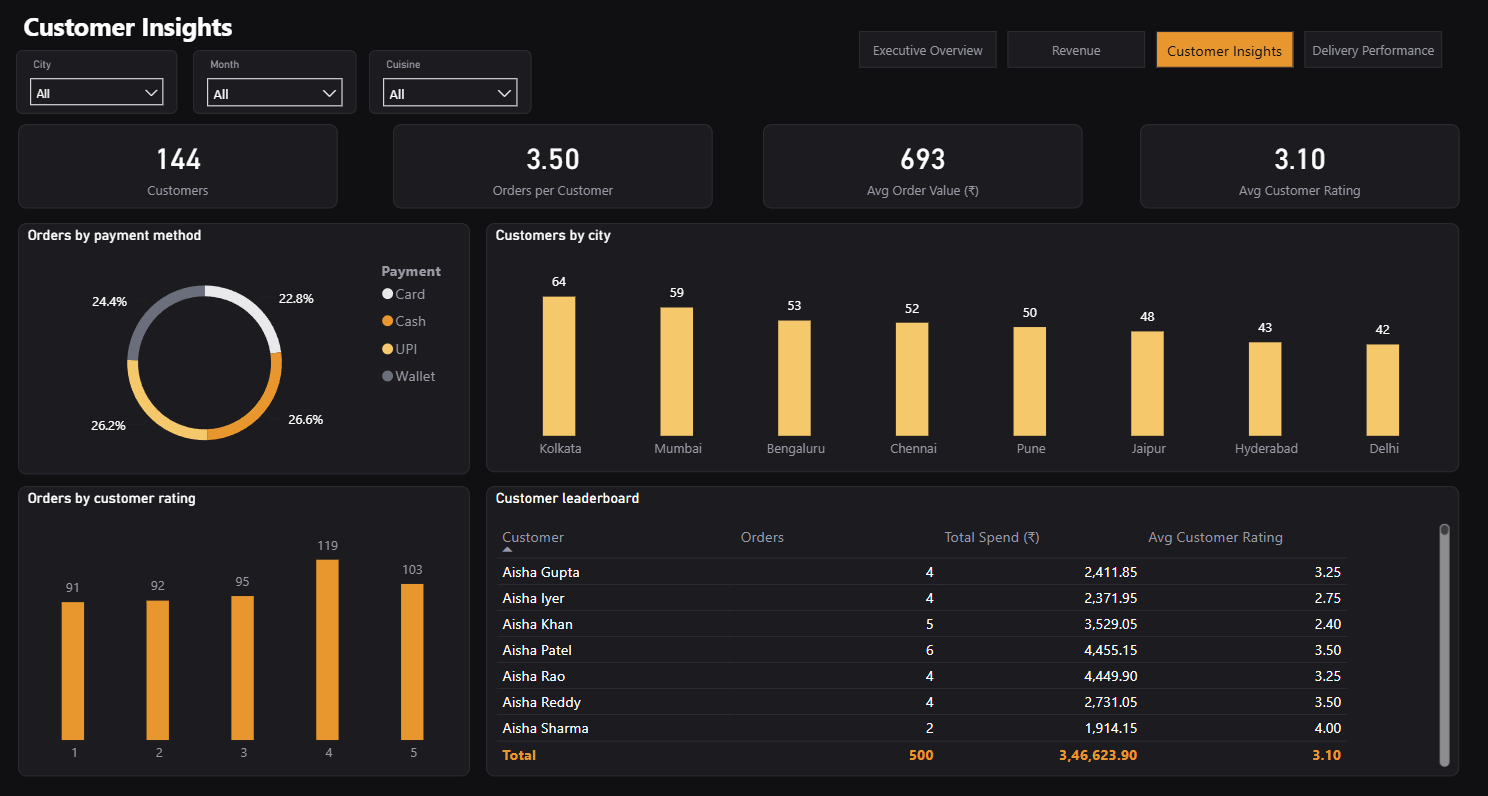

This screenshot's page, from the dashboard's own definition file:
{"tool":"powerbi","page":{"name":"Customer Insights","canvas":[1380,740],"ordinal":2},"visuals":[{"type":"textbox","box":[20.2,8.1,640,48.4],"z":0},{"type":"donutChart","title":"Orders by payment method","fields":{"Category":["FOOD DELIVERY ORDERS.Payment_Method"],"Y":["FOOD DELIVERY ORDERS.Total Orders"]},"box":[20.6,209.7,417.3,232],"z":1000},{"type":"columnChart","title":"Orders by customer rating","fields":{"Category":["FOOD DELIVERY ORDERS.Customer_Rating"],"Y":["FOOD DELIVERY ORDERS.Total Orders"]},"box":[20.2,452,417.3,268.4],"z":2000},{"type":"columnChart","title":"Customers by city","fields":{"Category":["FOOD DELIVERY ORDERS.City"],"Y":["Dist(FOOD DELIVERY ORDERS.Customer_ID)"]},"box":[452,209.7,897.5,230.4],"z":3000},{"type":"tableEx","title":"Customer leaderboard","fields":{"Values":["FOOD DELIVERY ORDERS.Customer_Name","FOOD DELIVERY ORDERS.Total Orders","Sum(FOOD DELIVERY ORDERS.Total_Amount)","Avg(FOOD DELIVERY ORDERS.Customer_Rating)"]},"box":[452,452,897.5,268.4],"z":4000},{"type":"pageNavigator","box":[796.5,32.6,541.1,34.8],"z":5000},{"type":"slicer","fields":{"Values":["FOOD DELIVERY ORDERS.City"]},"box":[18.5,50,149,59],"z":6000},{"type":"slicer","fields":{"Values":["FOOD DELIVERY ORDERS.Order_Date.Month"]},"box":[181.5,50,151,58.7],"z":7000},{"type":"slicer","fields":{"Values":["FOOD DELIVERY ORDERS.Category"]},"box":[344.5,50,150,58.7],"z":8000},{"type":"card","fields":{"Values":["Dist(FOOD DELIVERY ORDERS.Customer_ID)"]},"box":[20.6,118.4,295,78],"z":9000},{"type":"card","fields":{"Values":["FOOD DELIVERY ORDERS.Orders per Customer"]},"box":[366.2,118.4,295,78],"z":10000},{"type":"card","fields":{"Values":["FOOD DELIVERY ORDERS.Average Order Value"]},"box":[707.4,118.4,295,78],"z":11000},{"type":"card","fields":{"Values":["Avg(FOOD DELIVERY ORDERS.Customer_Rating)"]},"box":[1055.1,118.4,295,78],"z":12000}]}

Visuals, with their boxes in screenshot pixels (x1, y1, x2, y2), scaled from the page's 1380x740 canvas onto the 1488x796 screenshot:
textbox: rect(22, 9, 712, 61)
"Orders by payment method" donutChart: rect(22, 226, 472, 475)
"Orders by customer rating" columnChart: rect(22, 486, 472, 775)
"Customers by city" columnChart: rect(487, 226, 1455, 473)
"Customer leaderboard" tableEx: rect(487, 486, 1455, 775)
pageNavigator: rect(859, 35, 1442, 73)
slicer - FOOD DELIVERY ORDERS.City: rect(20, 54, 181, 117)
slicer - FOOD DELIVERY ORDERS.Order_Date.Month: rect(196, 54, 359, 117)
slicer - FOOD DELIVERY ORDERS.Category: rect(371, 54, 533, 117)
card - Dist(FOOD DELIVERY ORDERS.Customer_ID): rect(22, 127, 340, 211)
card - FOOD DELIVERY ORDERS.Orders per Customer: rect(395, 127, 713, 211)
card - FOOD DELIVERY ORDERS.Average Order Value: rect(763, 127, 1081, 211)
card - Avg(FOOD DELIVERY ORDERS.Customer_Rating): rect(1138, 127, 1456, 211)
